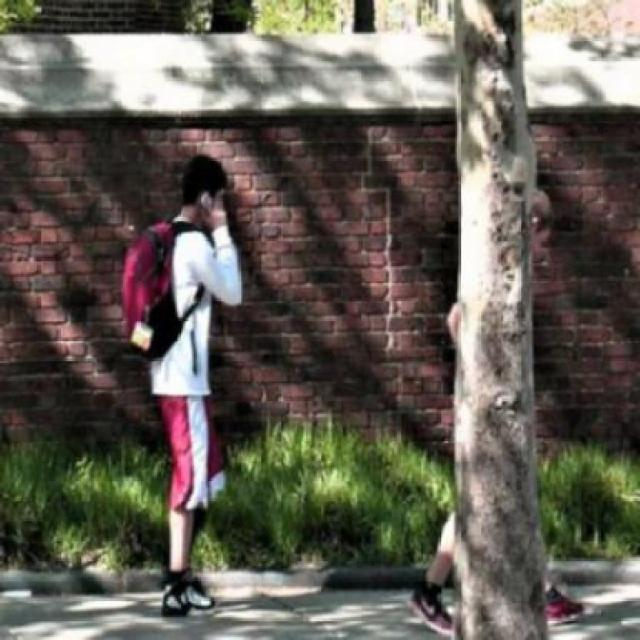Person: (129, 155, 242, 618)
